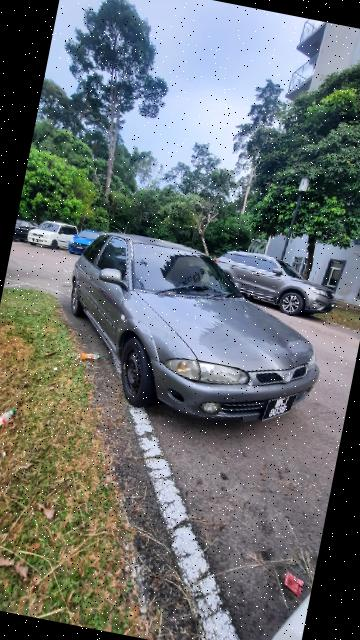License_Plate: (263, 389, 297, 426)
car: (47, 222, 338, 443), (208, 250, 341, 327)
